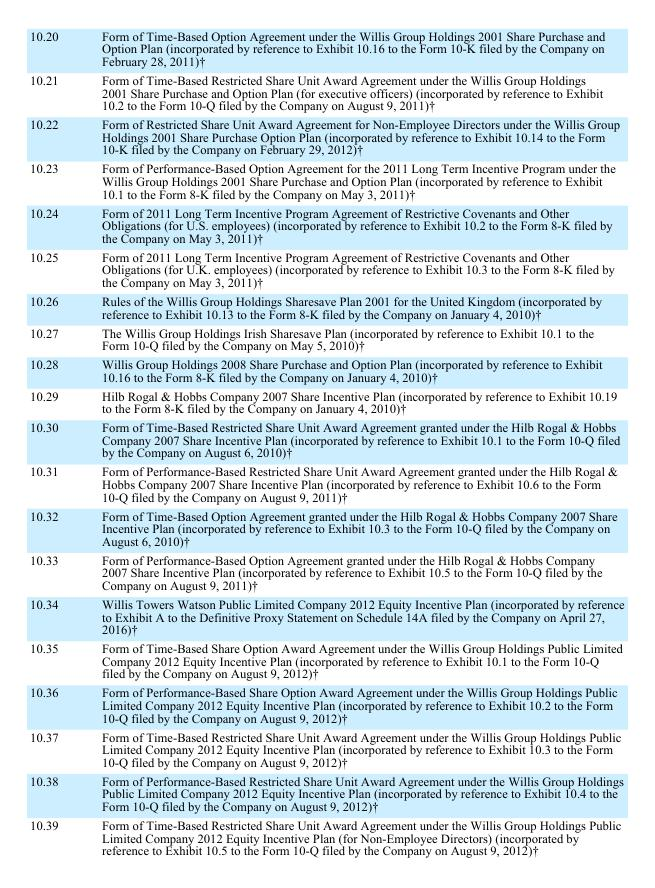table: (29, 28, 623, 856)
table column: (79, 28, 623, 856), (29, 28, 79, 856)
table row: (29, 202, 623, 247), (29, 505, 623, 550), (29, 726, 623, 771), (29, 70, 623, 114), (29, 114, 623, 158), (29, 158, 623, 202), (29, 247, 623, 291), (29, 417, 623, 461), (29, 461, 623, 505), (29, 550, 623, 594), (29, 594, 623, 638), (29, 638, 623, 682), (29, 682, 623, 726), (29, 771, 623, 815), (29, 28, 623, 70), (29, 815, 623, 856), (29, 322, 623, 354), (29, 385, 623, 417), (29, 291, 623, 322), (29, 354, 623, 385)
